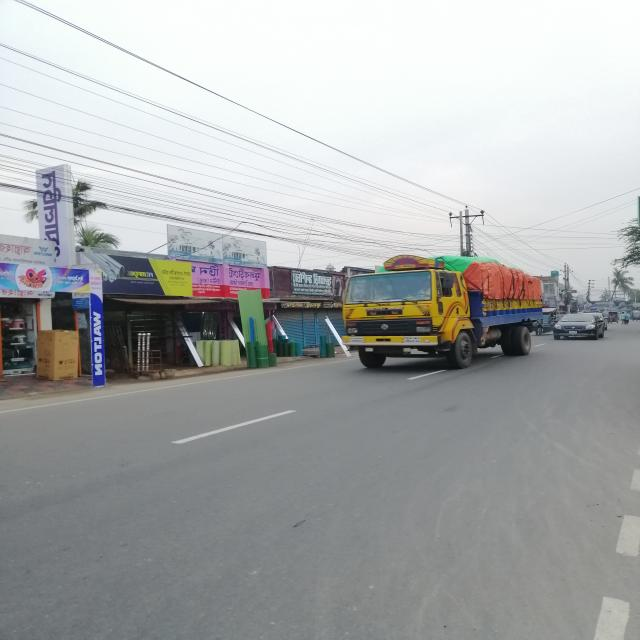Car: (548, 312, 605, 343)
Truck: (314, 239, 550, 389)
